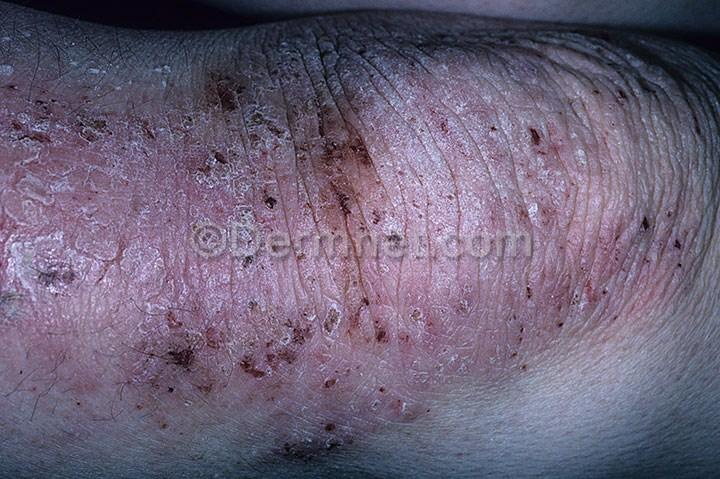eritema 1: (0, 56, 650, 426)
exudacion 1: (6, 70, 701, 418)
xerosis 2: (0, 46, 622, 330)
